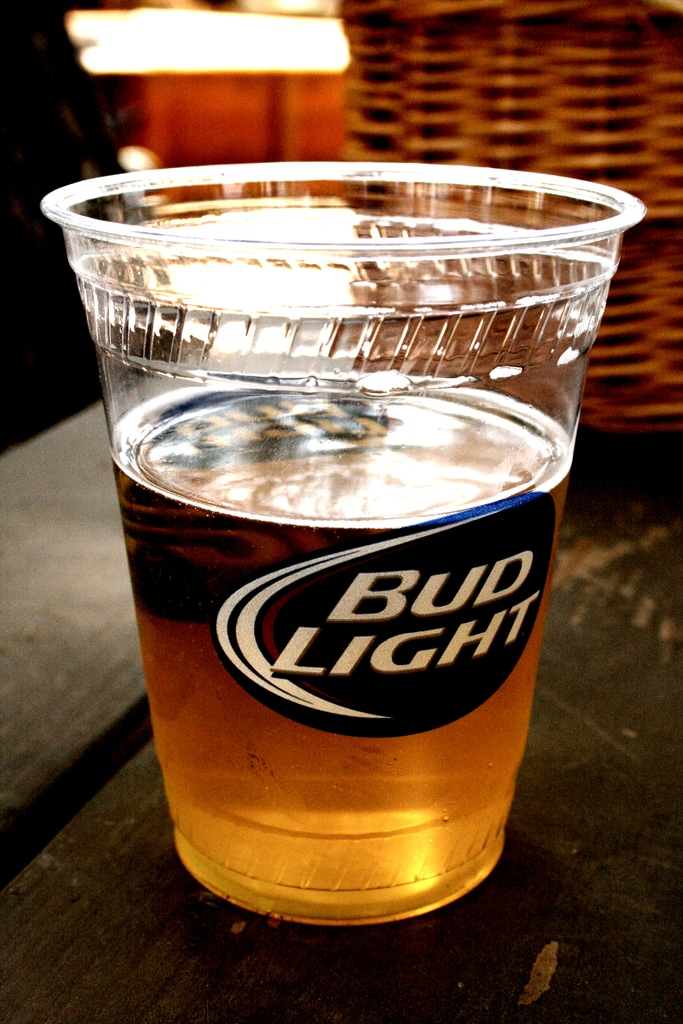Beer: (28, 146, 650, 944)
